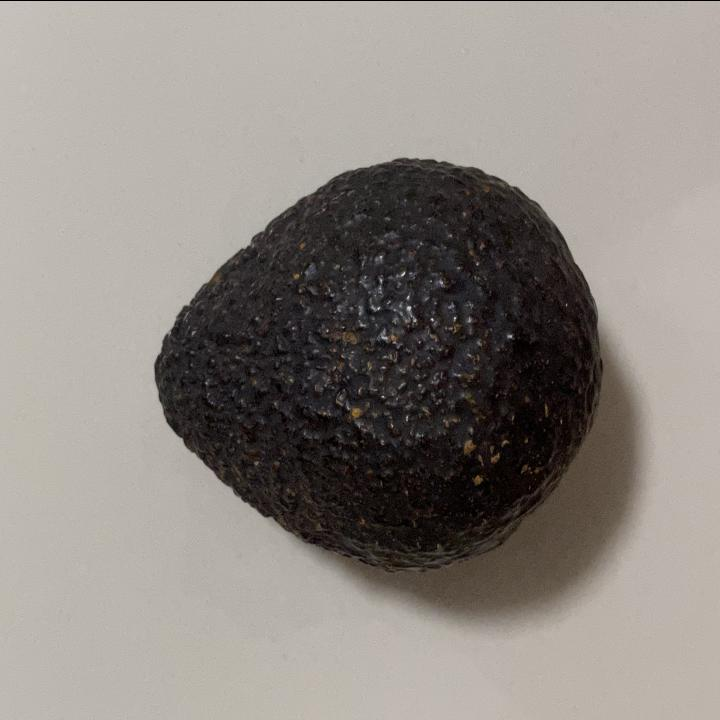Level3: (144, 144, 610, 582)
